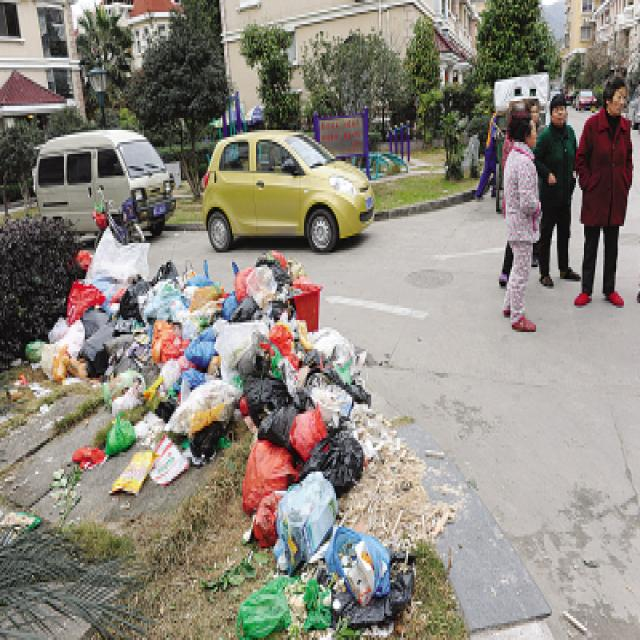garbage: (6, 222, 446, 638)
